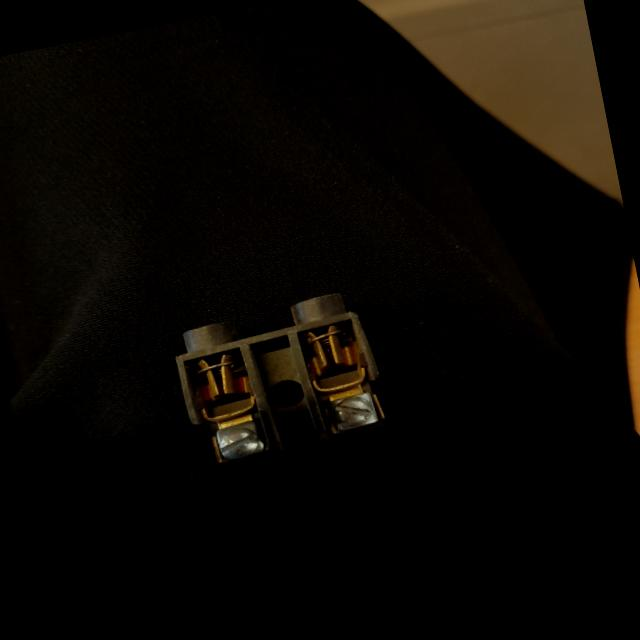Slotted: (326, 392, 377, 432), (215, 423, 263, 462)
